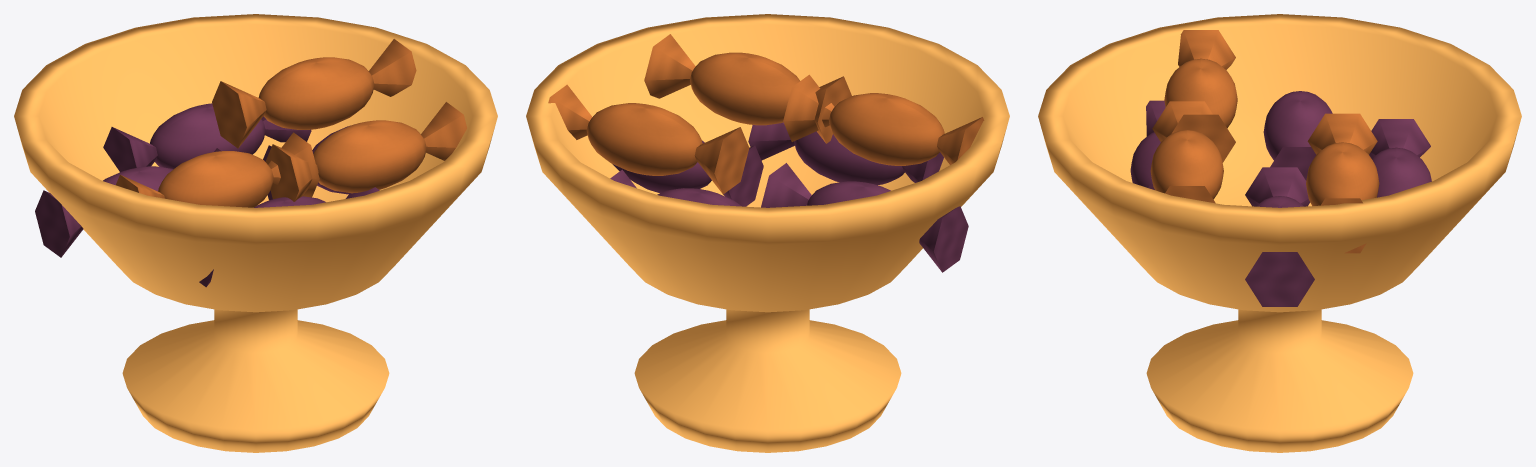
Rendered from hollowwick-halloween-footed-candy-bowl-b35f038a.glb.
The picture shows the model from 3 angles, left to right: view 1: azimuth 30°, elevation 25°; view 2: azimuth 150°, elevation 25°; view 3: azimuth 270°, elevation 25°; orthographic projection.
Parts seen in each view (by area): view 1: footed-candy-bowl; view 2: footed-candy-bowl; view 3: footed-candy-bowl.
Part boxes in pixels (x1,y1,x2,y2): footed-candy-bowl: [14, 14, 497, 452]; footed-candy-bowl: [526, 14, 1009, 452]; footed-candy-bowl: [1038, 14, 1521, 452].
Size of the model in its own units: 0.58 by 0.3913 by 0.58.
3 materials, 2 textured.
